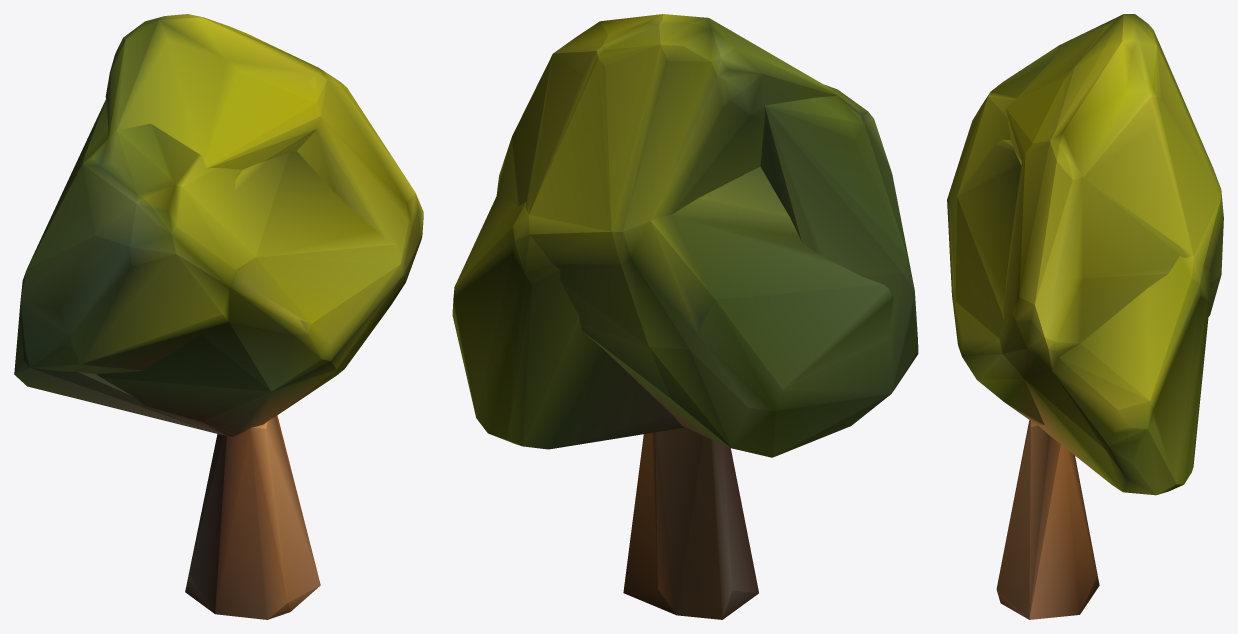
Rendered from tree.glb.
3 views of the same model, side by side, from view 1: azimuth 30°, elevation 25°; view 2: azimuth 150°, elevation 25°; view 3: azimuth 270°, elevation 25° (orthographic). The views are drawn at different scales.
Parts seen in each view (by area): view 1: TreeMesh; view 2: TreeMesh; view 3: TreeMesh.
Part boxes in pixels (x1,y1,x2,y2): TreeMesh: (14,14,423,619); TreeMesh: (452,14,918,619); TreeMesh: (947,14,1223,619).
Size of the model in its own units: 2.45 by 3.4 by 1.53.
